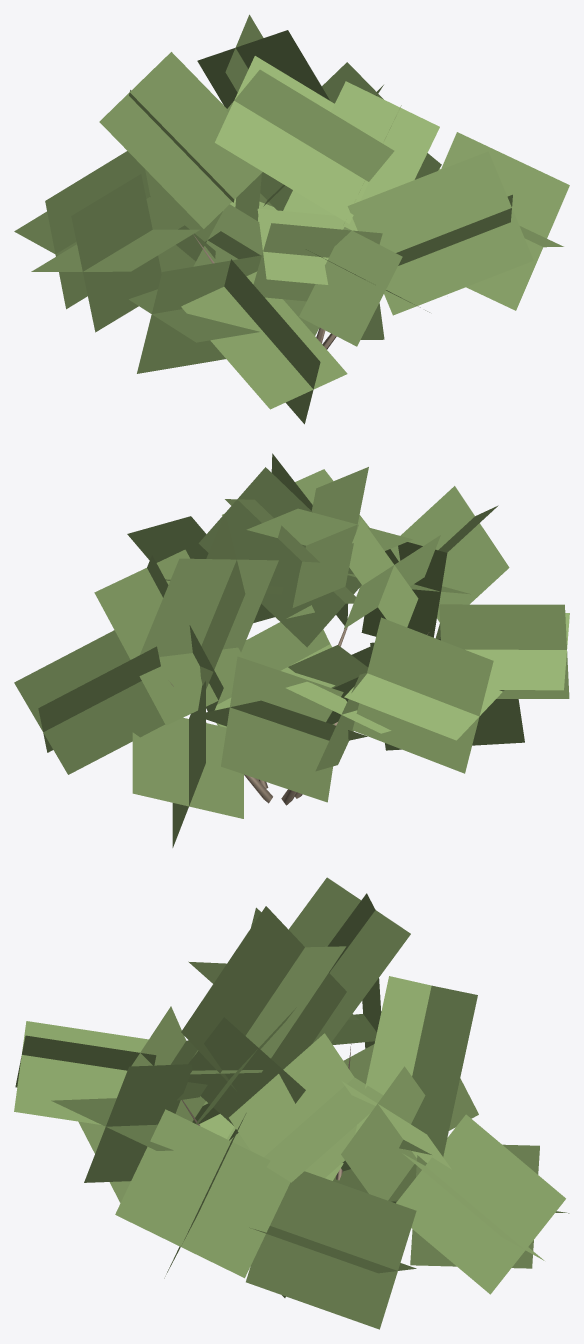
Rendered from Hazel_1_lod2.glb.
3 renders of one model, top to bottom at view 1: azimuth 30°, elevation 25°; view 2: azimuth 150°, elevation 25°; view 3: azimuth 270°, elevation 25°, orthographic. The views are drawn at different scales.
Visible parts, largest first — view 1: Hazel_1_lod2; view 2: Hazel_1_lod2; view 3: Hazel_1_lod2.
Part boxes in pixels (<box>): Hazel_1_lod2: <box>14,14,569,424</box>; Hazel_1_lod2: <box>14,453,569,847</box>; Hazel_1_lod2: <box>14,877,569,1329</box>.
Size of the model in its own units: 4.38 by 2.82 by 4.1.
